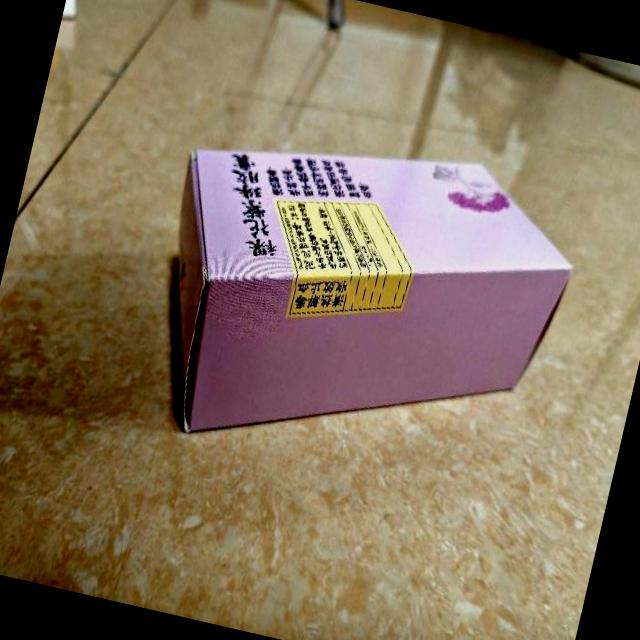box: (127, 100, 590, 510)
